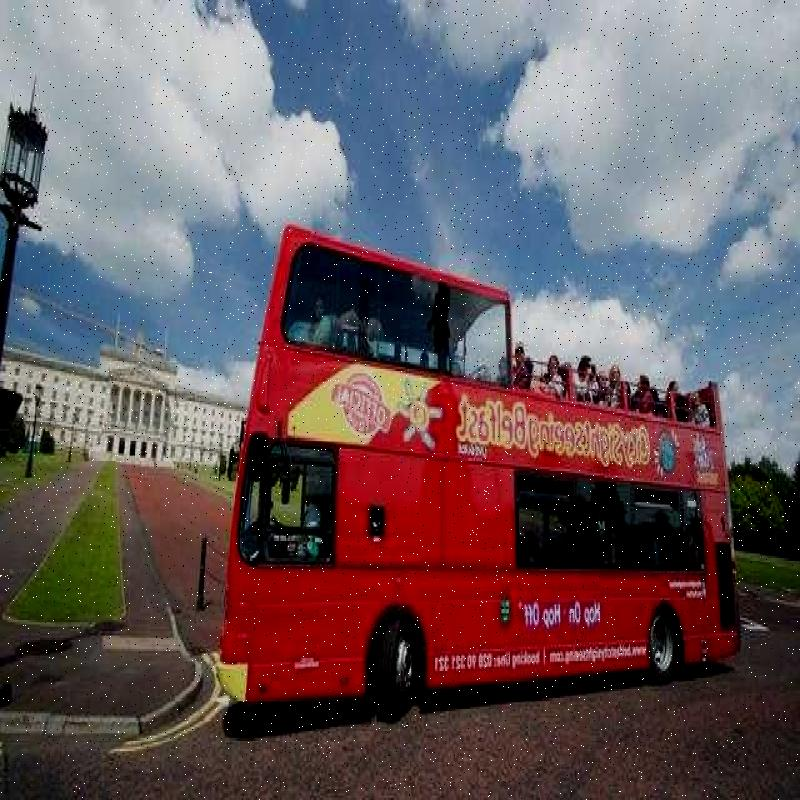bus: (218, 207, 732, 770)
